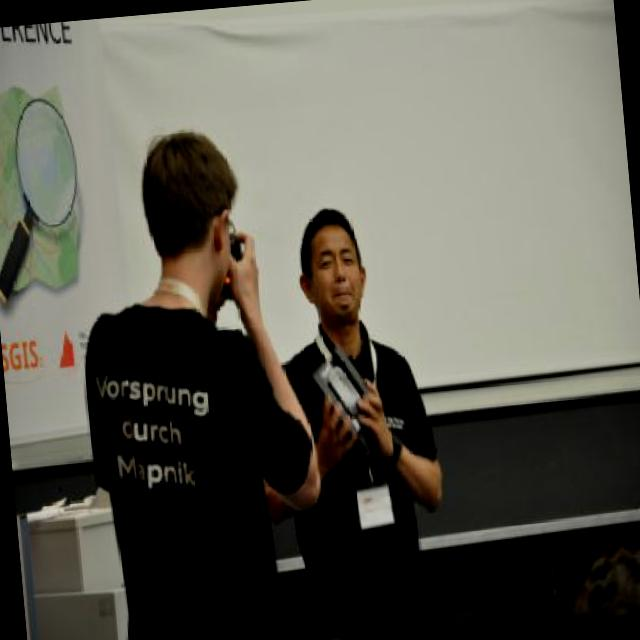Person: (59, 112, 326, 640), (240, 195, 460, 640)
